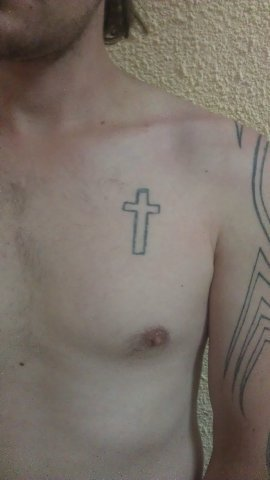tatu9_krest: (117, 180, 165, 259)
